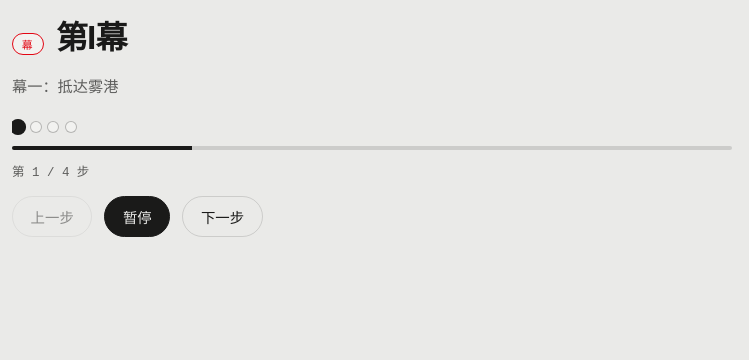
Scenario: ReplayPlayer 分步播放 › 下一步/上一步/播放暂停/跳步/进度条/重放完毕
The width and height of the screenshot is (749, 360).
Note: 下一步 → 场景
Step 1. Click the button "下一步" → [223, 216], box x1=182 y1=196 x2=263 y2=237
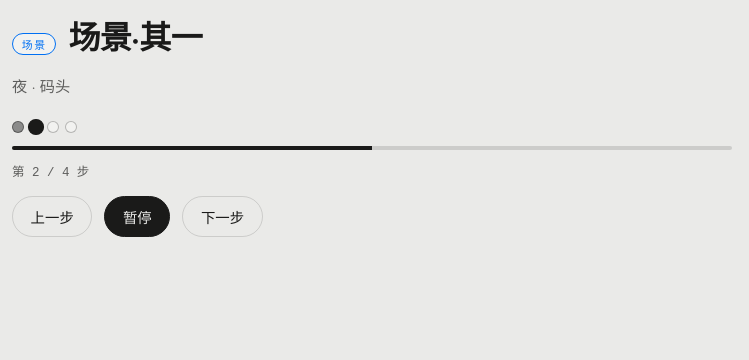
Expected: the text "场景·其一" is shown, x1=68 y1=12 x2=202 y2=59
Expected: the text "第 2 / 4 步" is shown, x1=12 y1=166 x2=89 y2=180
Note: 上一步 → 回到幕
Step 2. Click the button "上一步" → [52, 216], box x1=12 y1=196 x2=92 y2=237
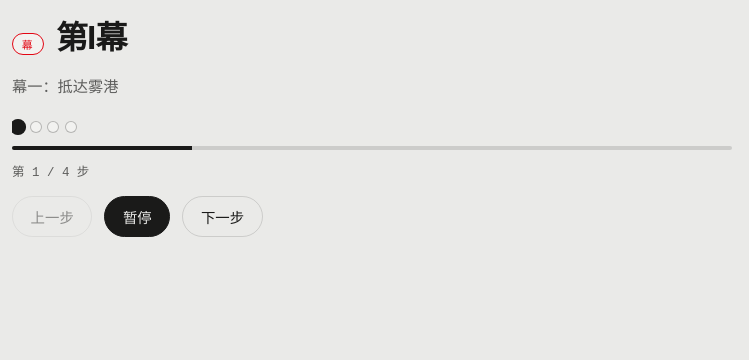
Expected: the text "第I幕" is shown, x1=56 y1=12 x2=127 y2=59
Note: 播放 / 暂停 切换
Step 3. Click the button "暂停" → [137, 216], box x1=104 y1=196 x2=170 y2=237
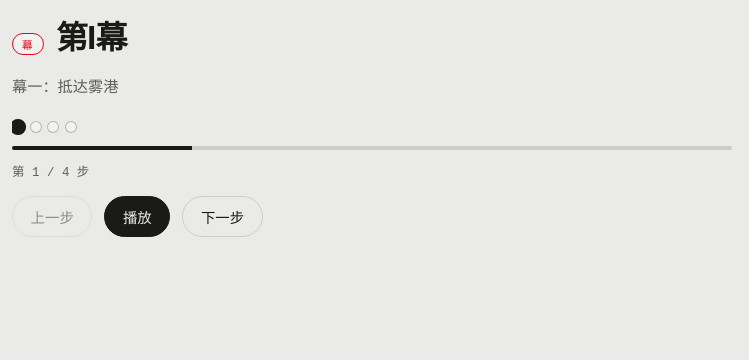
Step 4. Click the button "播放" → [137, 216], box x1=104 y1=196 x2=170 y2=237
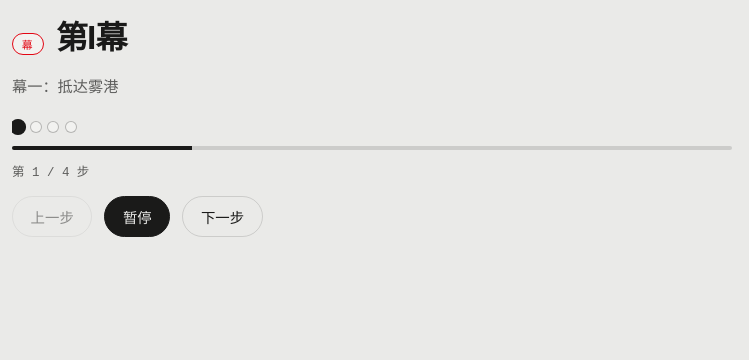
Step 5. Click the 4th button with class "sx-replay-player__dot" → [71, 127], box x1=65 y1=121 x2=77 y2=133
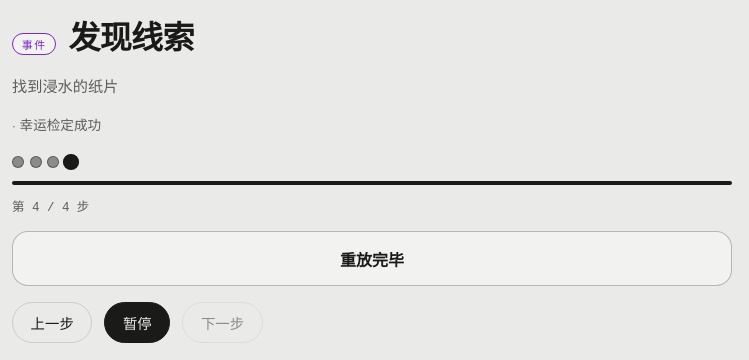
Expected: the text "发现线索" is shown, x1=68 y1=12 x2=194 y2=59
Expected: the text "幸运检定成功" is shown, x1=20 y1=114 x2=101 y2=134
Expected: the text "第 4 / 4 步" is shown, x1=12 y1=201 x2=89 y2=215
